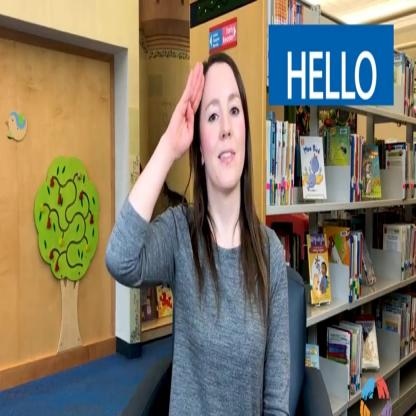Hello: (160, 54, 254, 245)
